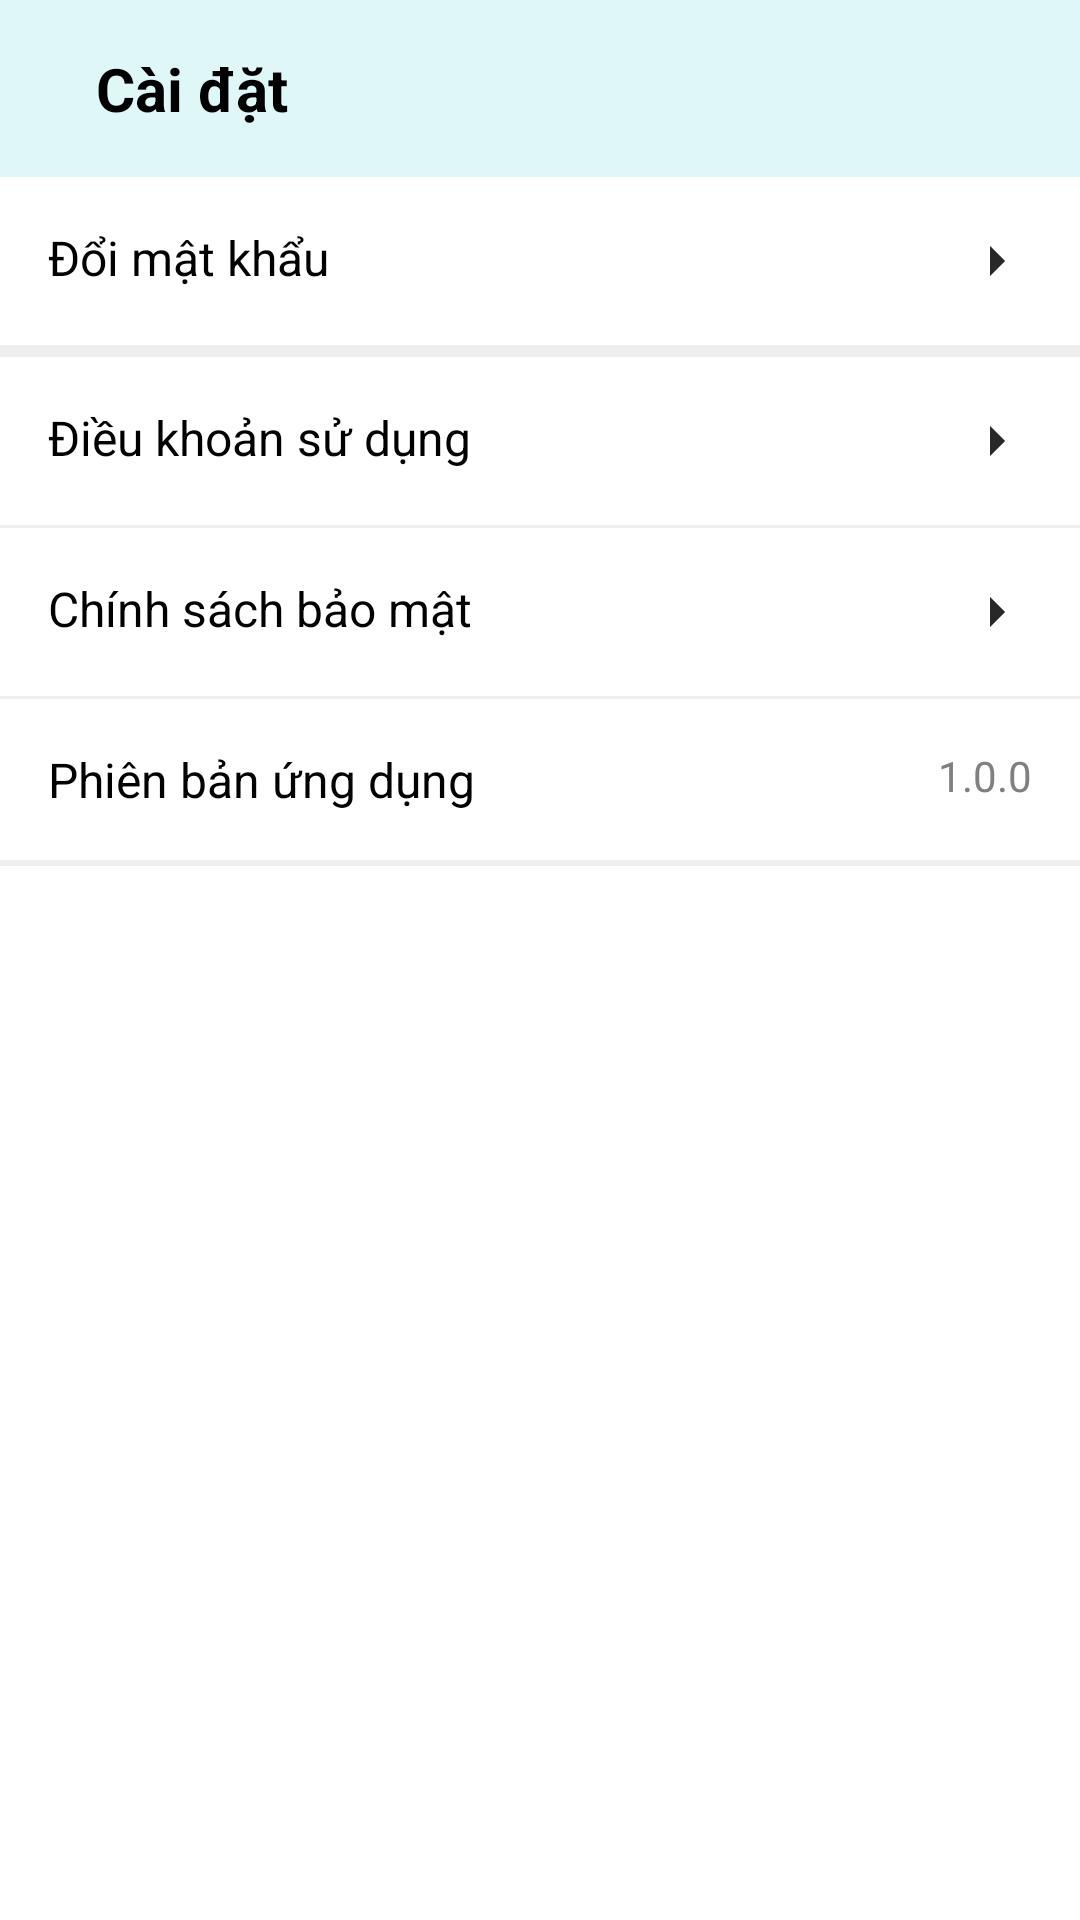

Icons on this 1080px×1920px Android screen, each with the point to tap as (x,y):
arrow right: (997,261), (997,441), (997,612)
